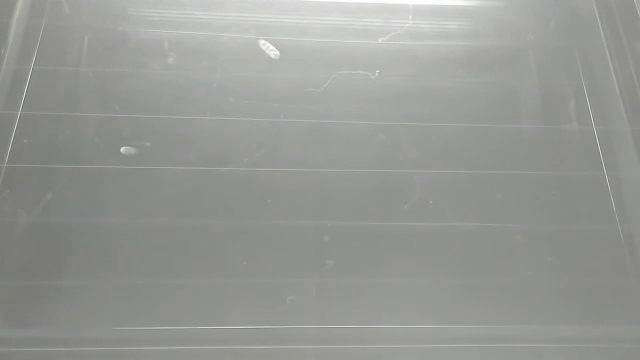alpha: (255, 36, 283, 62), (117, 143, 141, 158)
